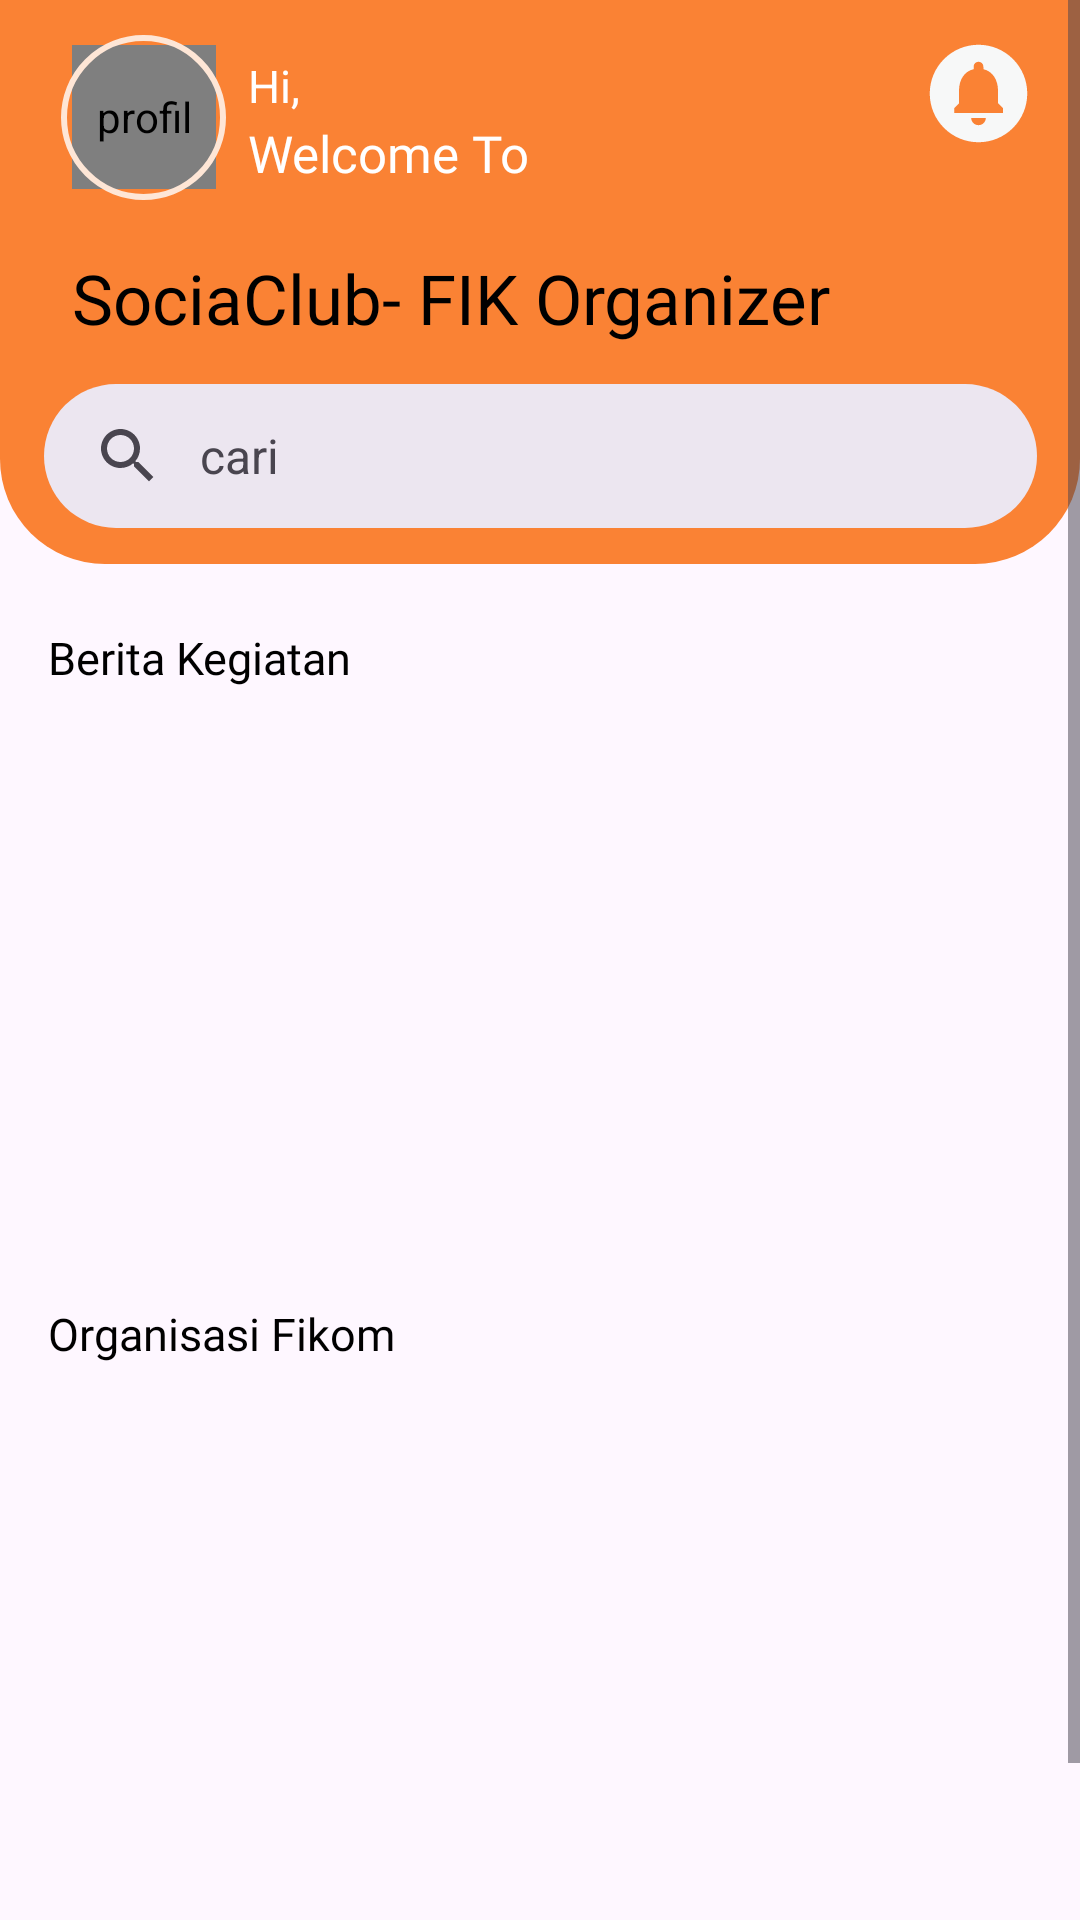

Where to tap for icons on this 1080 × 1920 app screen, as (x=x, y=y):
notifikasi: (x=978, y=93)
